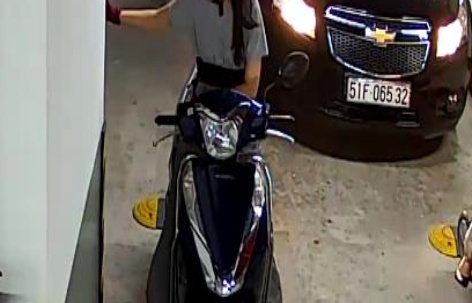plate: (345, 72, 415, 108)
